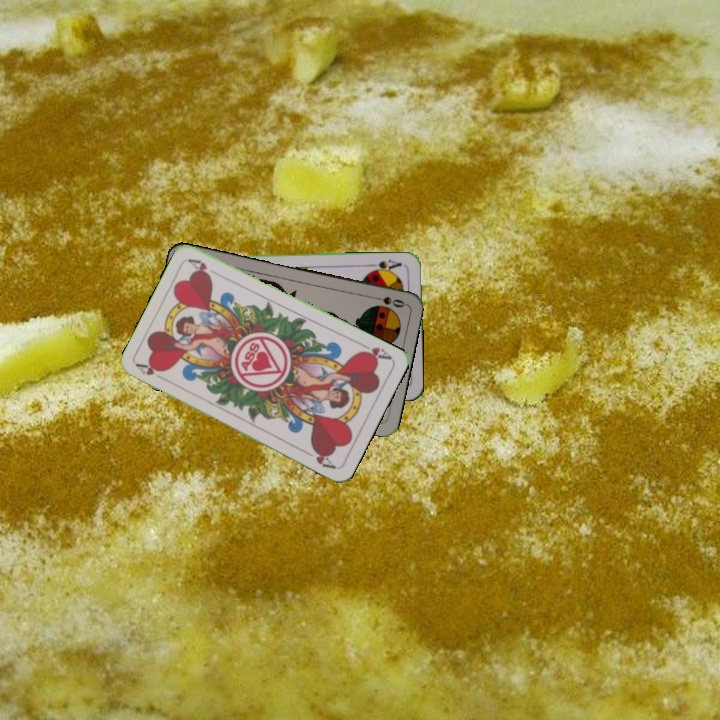HA: (133, 360, 171, 385), (355, 339, 394, 363)
SA: (366, 255, 404, 275)
SO: (367, 292, 407, 310)
